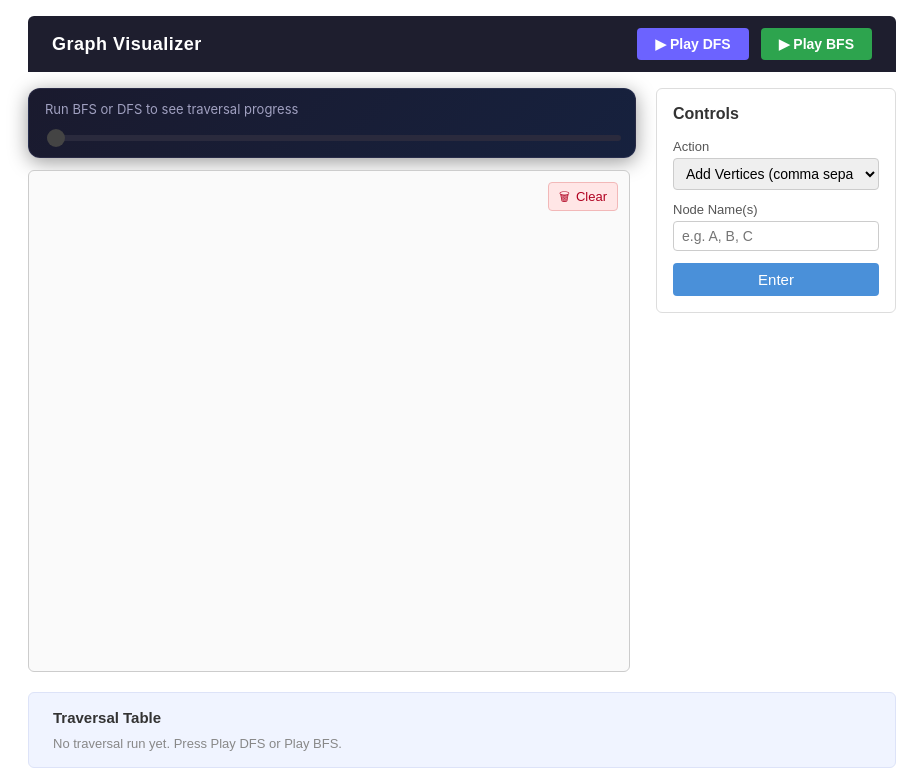
Scenario: shows Source and Target inputs when Add Edge is selected
The image size is (913, 776).
Select "Add Edge" in the dropdown labelled "Action" at (776, 174), box [673,158,879,190]
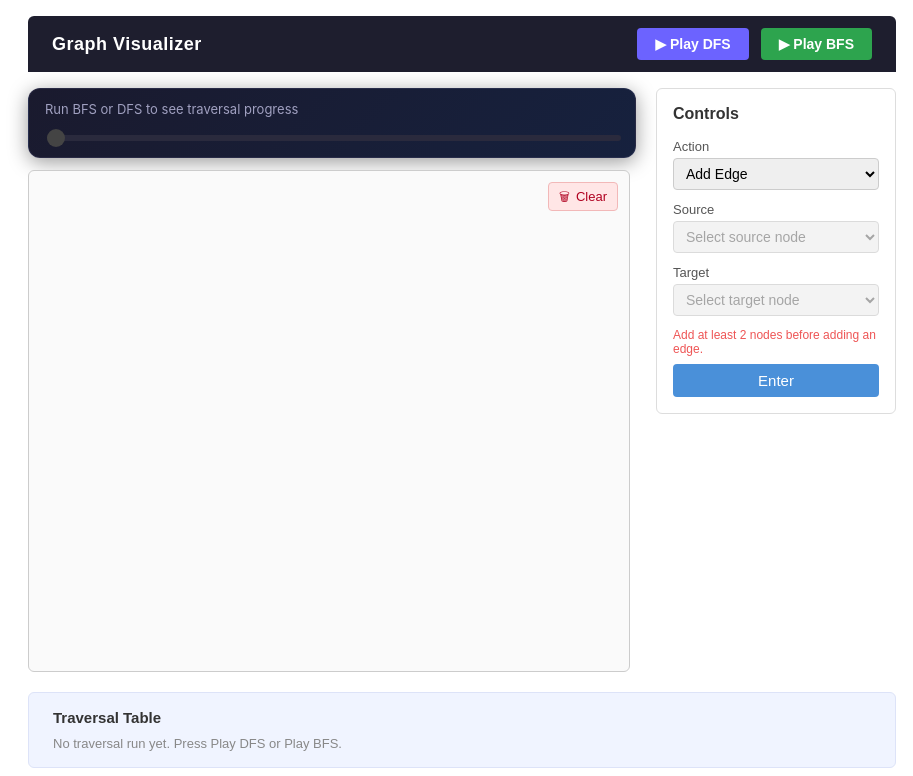
Expected: the dropdown labelled "Source" is shown, [673,221,879,253]
Expected: the dropdown labelled "Target" is shown, [673,284,879,316]
